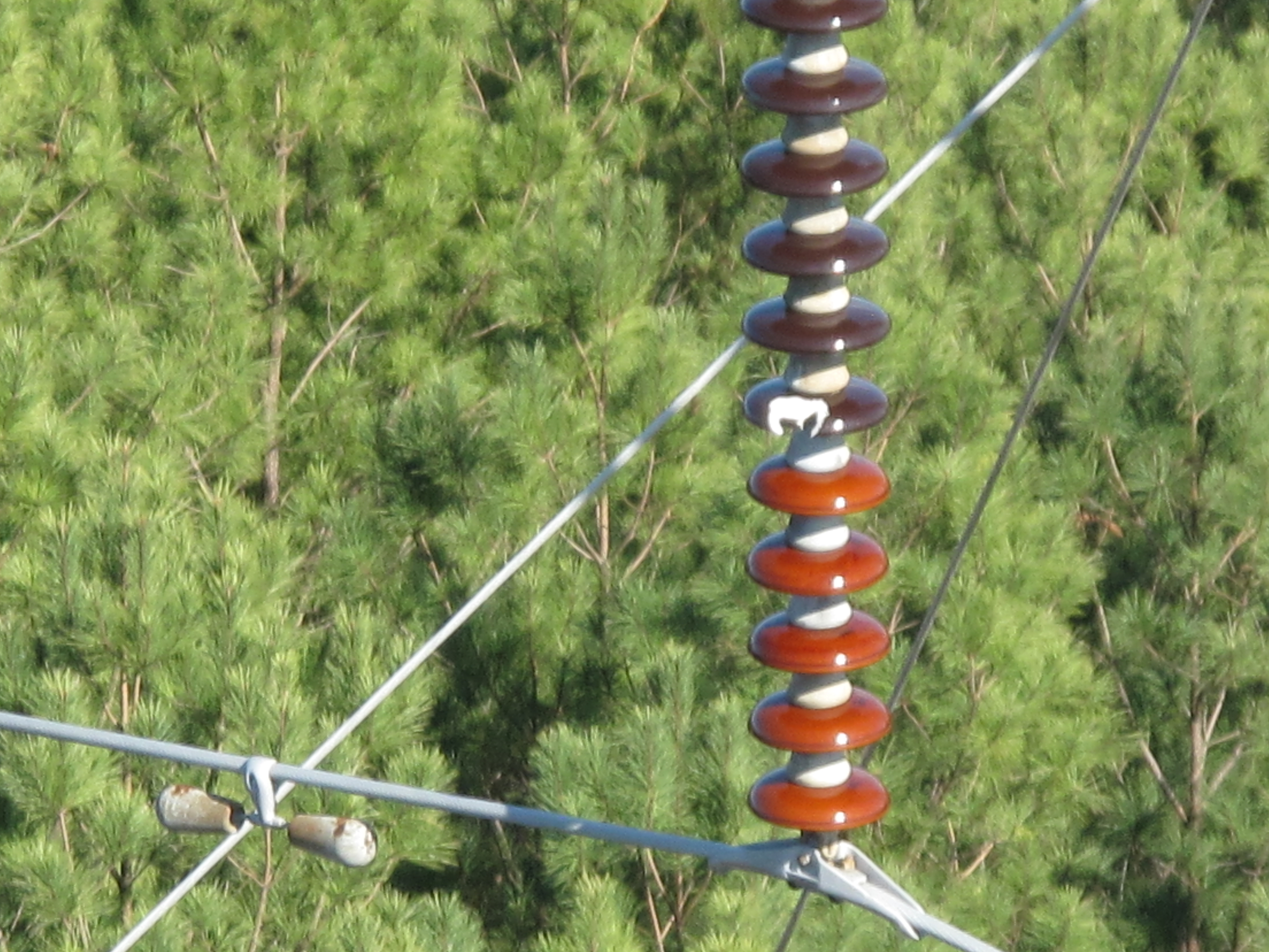damaged: (755, 383, 845, 441)
hammer: (154, 740, 381, 865)
insulator: (735, 0, 893, 837)
